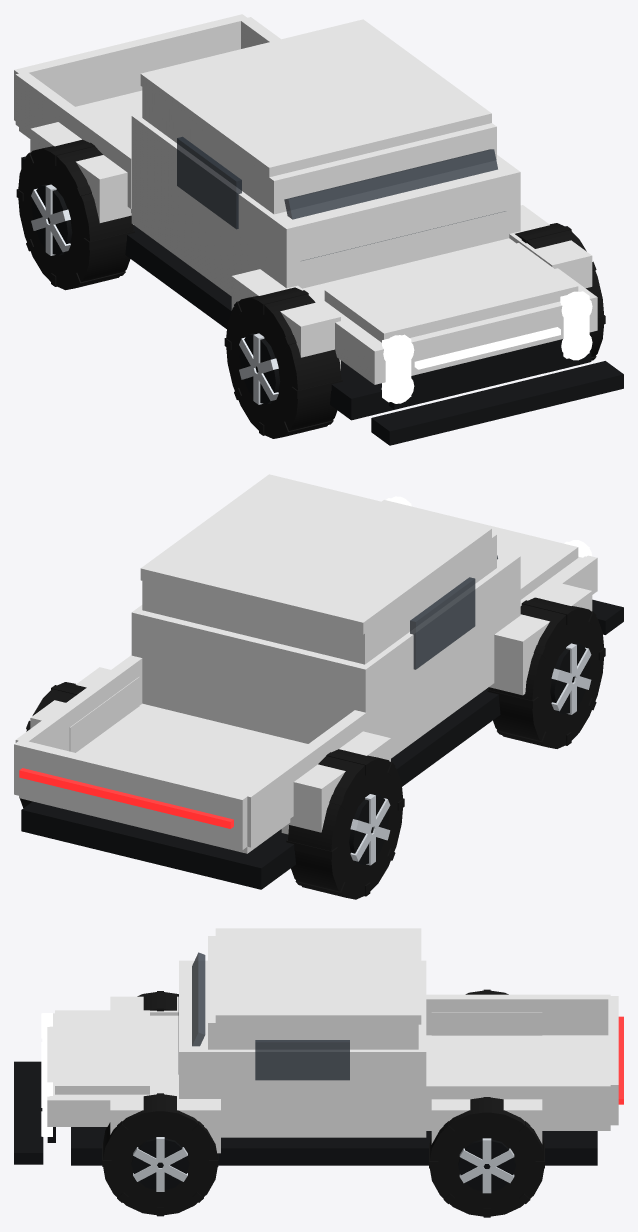
The model's file is river-run-swamp-beast.glb.
The picture shows the model from 3 angles, top to bottom: view 1: azimuth 30°, elevation 25°; view 2: azimuth 150°, elevation 25°; view 3: azimuth 270°, elevation 25°; orthographic projection. The views are drawn at different scales.
Parts seen in each view (by area): view 1: chassis, wheel-front-left, wheel-back-left, glass, wheel-front-right; view 2: chassis, wheel-back-left, wheel-front-left, wheel-back-right; view 3: chassis, wheel-front-right, wheel-back-right, glass, wheel-front-left.
Part boxes in pixels (<box>): chassis: <box>14,14,623,445</box>; wheel-front-left: <box>224,287,342,438</box>; wheel-back-left: <box>16,139,134,290</box>; glass: <box>284,149,505,260</box>; wheel-front-right: <box>515,223,605,373</box>; chassis: <box>14,474,623,889</box>; wheel-back-left: <box>286,749,404,899</box>; wheel-front-left: <box>487,597,605,748</box>; wheel-back-right: <box>20,682,86,807</box>; chassis: <box>14,928,623,1165</box>; wheel-front-right: <box>102,1093,218,1216</box>; wheel-back-right: <box>429,1097,544,1217</box>; glass: <box>178,952,205,1074</box>; wheel-front-left: <box>137,991,178,1011</box>.
Size of the model in its own units: 2.85 by 1.93 by 5.79.
